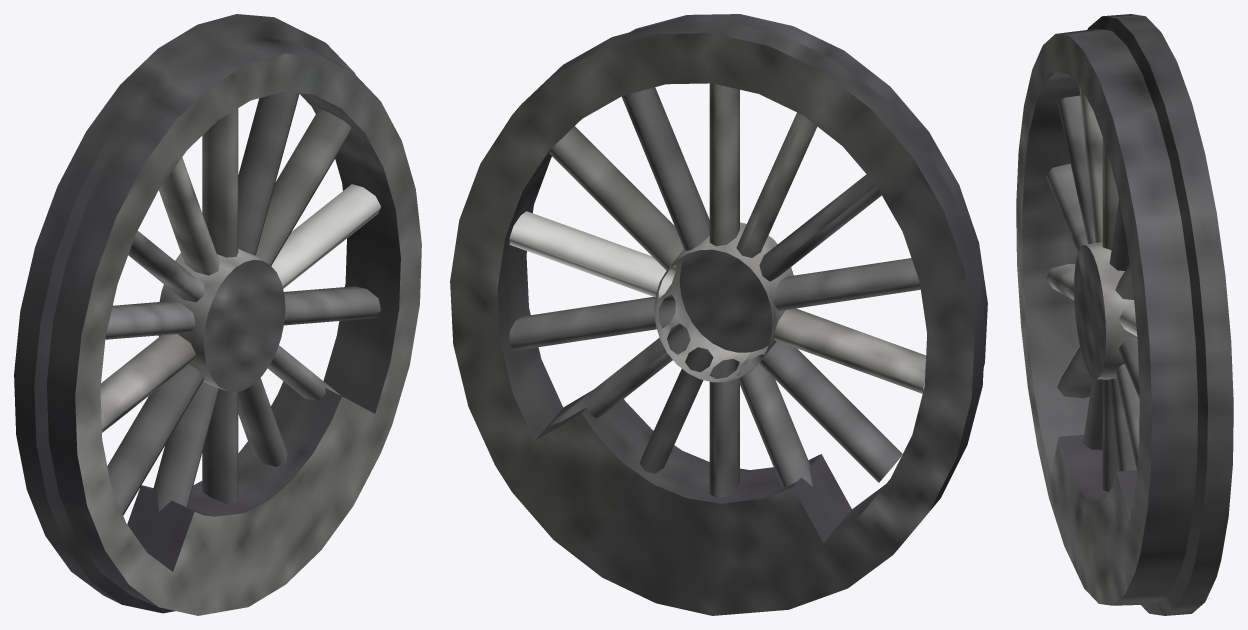
The model's file is LlantaDer2.obj.
The picture shows the model from 3 angles, left to right: view 1: azimuth 30°, elevation 25°; view 2: azimuth 150°, elevation 25°; view 3: azimuth 270°, elevation 25°; orthographic projection. The views are drawn at different scales.
Parts seen in each view (by area): view 1: LlantaDer2; view 2: LlantaDer2; view 3: LlantaDer2.
Part boxes in pixels (x1,y1,x2,y2): LlantaDer2: (14,14,421,615); LlantaDer2: (450,14,987,615); LlantaDer2: (1016,14,1233,615).
Size of the model in its own units: 0.3182 by 0.3903 by 0.1368.
1 material, 1 textured.
